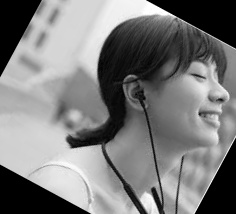earphone: (113, 70, 159, 115)
